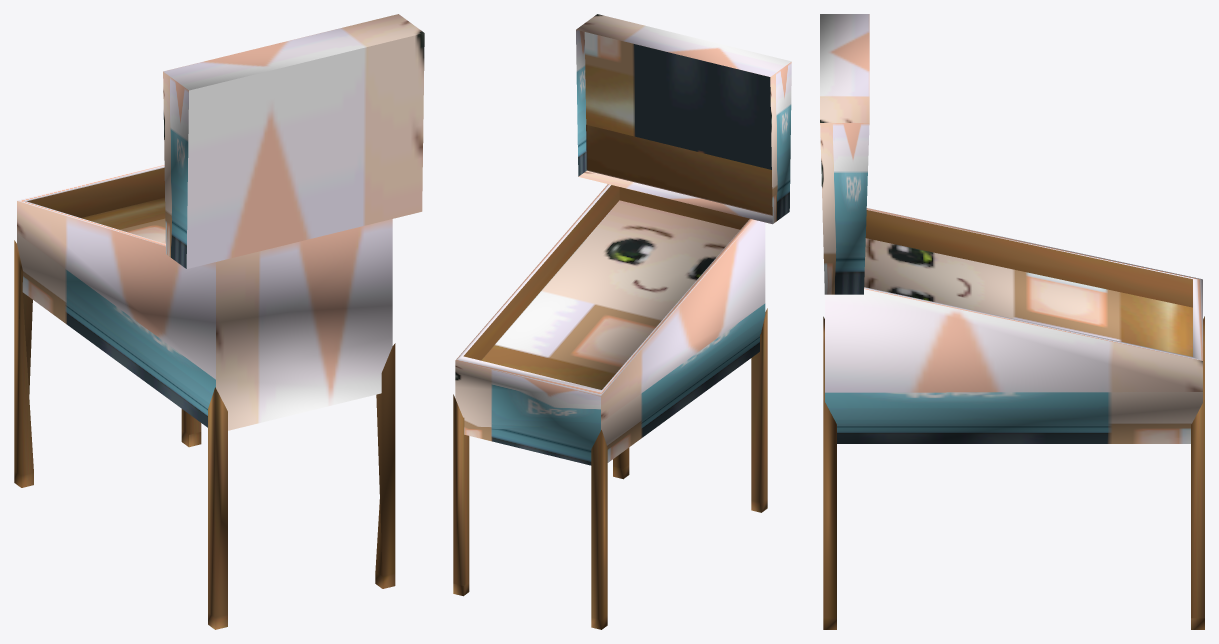
File: VIEW.ICO.obj
3 views of the same model, side by side, from view 1: azimuth 30°, elevation 25°; view 2: azimuth 150°, elevation 25°; view 3: azimuth 270°, elevation 25° (orthographic). The views are drawn at different scales.
Bounding box in the file's own units: 2.16 × 4.79 × 3.22.
